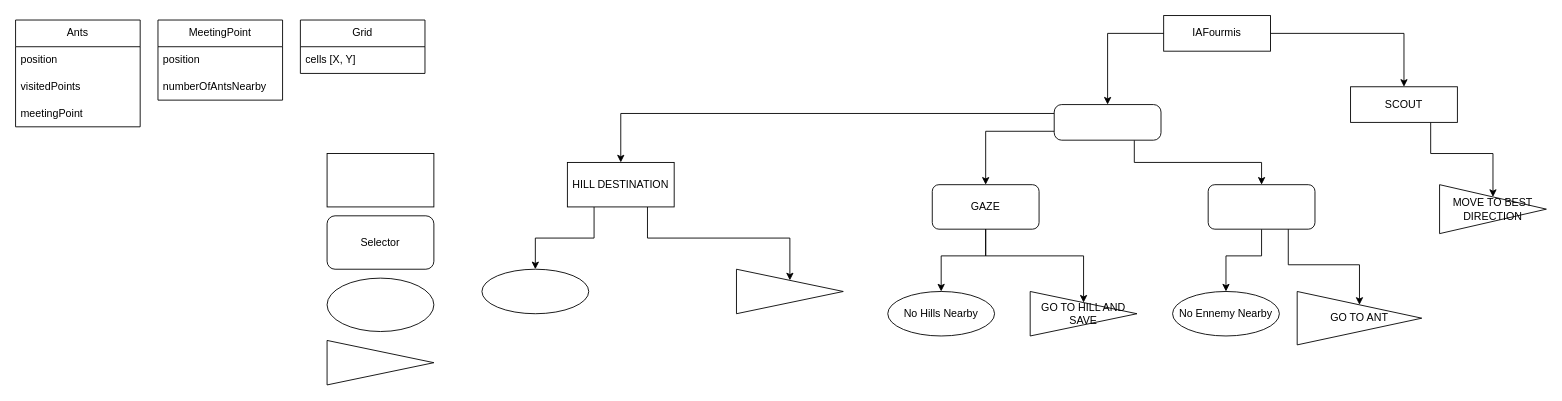
Image size: 1562x401. Some labels were removed from this diagram. Here are the shapes that lost their labels. From the top down, the centre of each, then its label:
point 1107,122: SOLDIER
point 380,180: Sequence
point 1261,206: ENNEMY
point 380,304: Input
point 535,291: Has A Hill Destination
point 789,291: Walk To Hill Destination
point 380,362: Action
